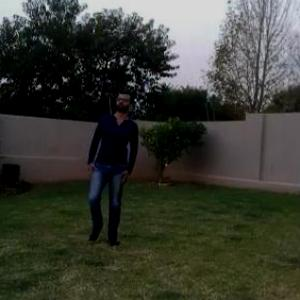follow: (84, 85, 139, 245)
